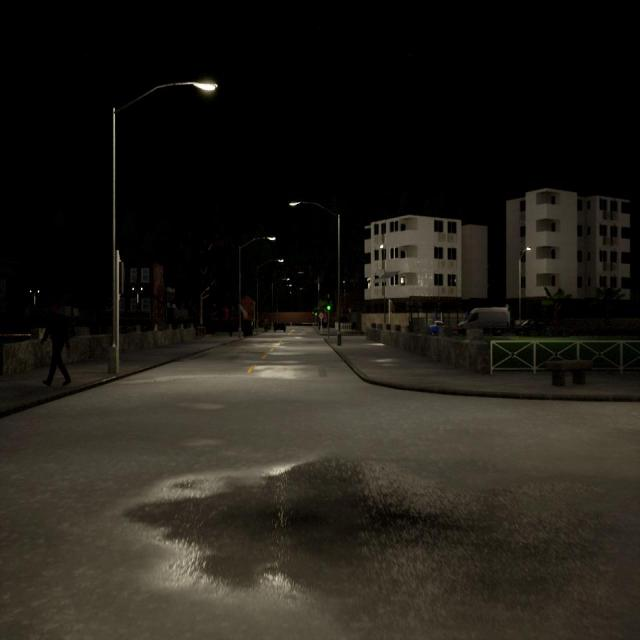Pedestrian: (40, 306, 70, 385)
Traffic_Signs: (318, 312, 324, 319)
Vehicle: (458, 307, 510, 336), (515, 320, 551, 335), (428, 320, 449, 335), (273, 319, 286, 332)
traffic_light: (119, 261, 124, 294), (327, 298, 330, 311), (312, 311, 314, 317), (315, 310, 317, 316)
